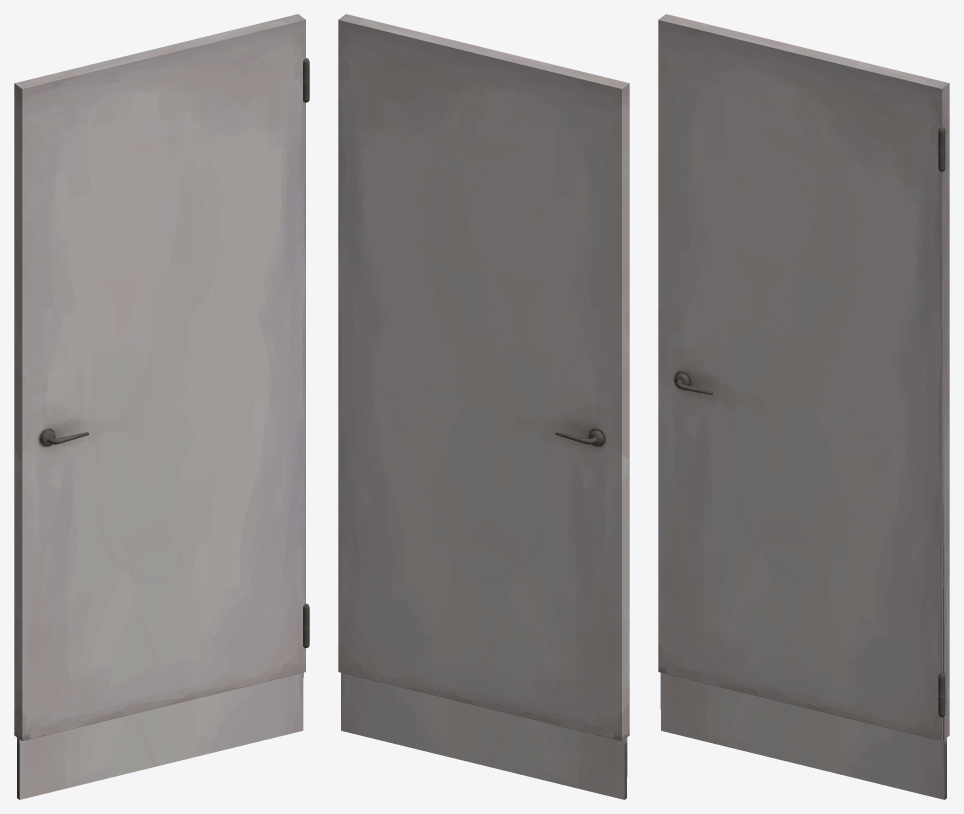
File: PuertaS_Fachada.obj
3 renders of one model, left to right at view 1: azimuth 30°, elevation 25°; view 2: azimuth 150°, elevation 25°; view 3: azimuth 330°, elevation 25°, orthographic.
Parts seen in each view (by area): view 1: PuertaS_Fachada; view 2: PuertaS_Fachada; view 3: PuertaS_Fachada.
Part boxes in pixels (<box>): PuertaS_Fachada: <box>14,14,309,799</box>; PuertaS_Fachada: <box>338,14,629,799</box>; PuertaS_Fachada: <box>658,14,949,799</box>.
Size of the model in its own units: 0.837 by 1.99 by 0.1161.
Materials: 1 (1 with a texture image).
